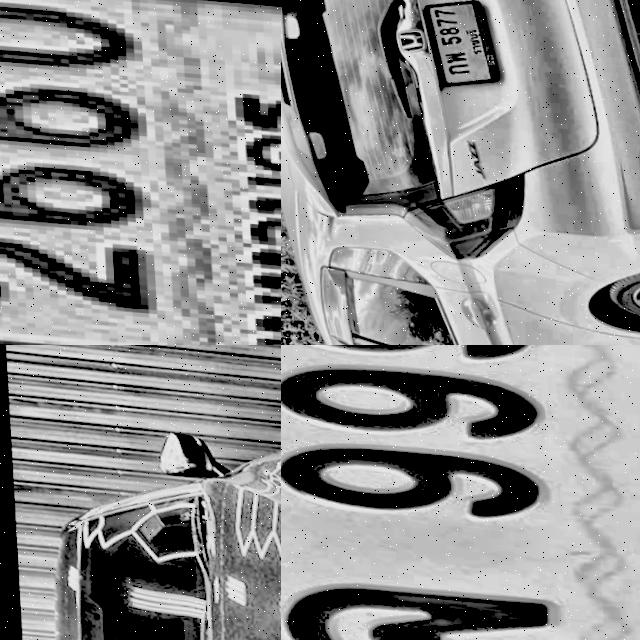license-plate: (281, 345, 640, 640), (0, 0, 281, 345), (417, 0, 498, 85)
